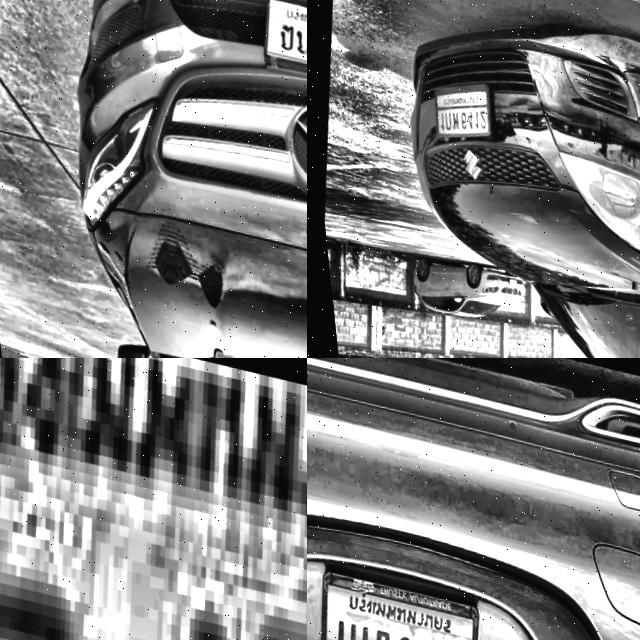license-plate: (0, 358, 307, 640), (307, 554, 482, 640), (422, 71, 493, 147), (250, 0, 307, 88)
